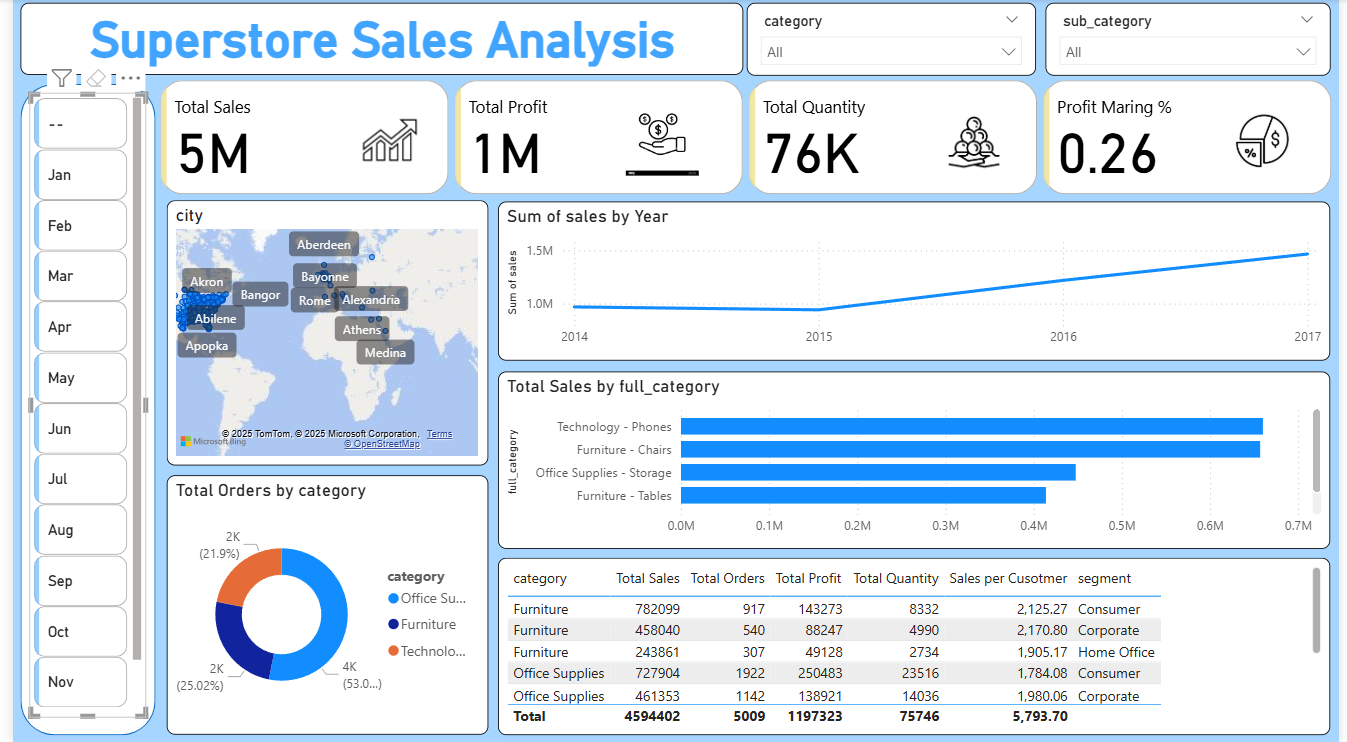

Layout of this report page (visuals, bound fields, positions):
{"tool":"powerbi","page":{"name":"Dashboard","canvas":[1280,720],"ordinal":0},"visuals":[{"type":"shape","box":[7.2,82,130.3,628.6],"z":0},{"type":"advancedSlicerVisual","fields":{"Values":["Date Table.Month Name"]},"box":[15.7,90.5,113.4,603.2],"z":1000},{"type":"cardVisual","fields":{"Data":["db_store superstore_sales.Total Sales","db_store superstore_sales.Total Profit","db_store superstore_sales.Total Quantity","db_store superstore_sales.Profit Maring %"]},"box":[137.5,73.6,1142.5,120.6],"z":2000},{"type":"image","box":[332.1,100,64.2,71.6],"z":3000},{"type":"image","box":[892.6,107.4,70.4,61.7],"z":4000},{"type":"image","box":[1169.1,102.5,74.1,69.1],"z":5000},{"type":"image","box":[575.3,90.1,102.5,85.2],"z":6000},{"type":"slicer","fields":{"Values":["db_store superstore_sales.category"]},"box":[708.6,3.7,279,70.4],"z":7000},{"type":"slicer","fields":{"Values":["db_store superstore_sales.sub_category"]},"box":[996.3,3.7,275.3,70.4],"z":8000},{"type":"map","fields":{"Category":["db_store superstore_sales.city"]},"box":[148.8,193.8,310,256.2],"z":9000},{"type":"lineChart","fields":{"Y":["db_store superstore_sales.Total Quantity"],"Category":["Date Table.Date"],"Series":["Date Table.Month Name"]},"box":[468.1,194.2,803.5,153.2],"z":10000},{"type":"donutChart","fields":{"Y":["db_store superstore_sales.Total Orders"],"Category":["db_store superstore_sales.category"]},"box":[148.8,460,310,250],"z":11000},{"type":"clusteredBarChart","fields":{"Y":["db_store superstore_sales.Total Sales"],"Category":["db_store superstore_sales.full_category"]},"box":[468.1,359.5,803.5,171.3],"z":12000},{"type":"tableEx","fields":{"Values":["db_store superstore_sales.category","db_store superstore_sales.Total Sales","db_store superstore_sales.Total Orders","db_store superstore_sales.Total Profit","db_store superstore_sales.Total Quantity","db_store superstore_sales.Sales per Cusotmer","db_store superstore_sales.segment"]},"box":[468.1,539.3,803.5,171.3],"z":13000},{"type":"textbox","title":"Superstore Sales Analysis ","box":[7.2,3.6,697.3,70],"z":14000}]}

Visuals, with their boxes in screenshot pixels (x1, y1, x2, y2), scaled from the page's 1280x720 canvas onto the 1347x742 screenshot:
shape: BBox(8, 85, 145, 732)
advancedSlicerVisual - Date Table.Month Name: BBox(17, 93, 136, 715)
cardVisual - db_store superstore_sales.Total Sales x db_store superstore_sales.Total Profit: BBox(145, 76, 1346, 200)
image: BBox(349, 103, 417, 177)
image: BBox(939, 111, 1013, 174)
image: BBox(1230, 106, 1308, 177)
image: BBox(605, 93, 713, 181)
slicer - db_store superstore_sales.category: BBox(746, 4, 1039, 76)
slicer - db_store superstore_sales.sub_category: BBox(1048, 4, 1338, 76)
map - db_store superstore_sales.city: BBox(157, 200, 483, 464)
lineChart - db_store superstore_sales.Total Quantity x Date Table.Date: BBox(493, 200, 1338, 358)
donutChart - db_store superstore_sales.Total Orders x db_store superstore_sales.category: BBox(157, 474, 483, 732)
clusteredBarChart - db_store superstore_sales.Total Sales x db_store superstore_sales.full_category: BBox(493, 370, 1338, 547)
tableEx - db_store superstore_sales.category x db_store superstore_sales.Total Sales: BBox(493, 556, 1338, 732)
"Superstore Sales Analysis " textbox: BBox(8, 4, 741, 76)
